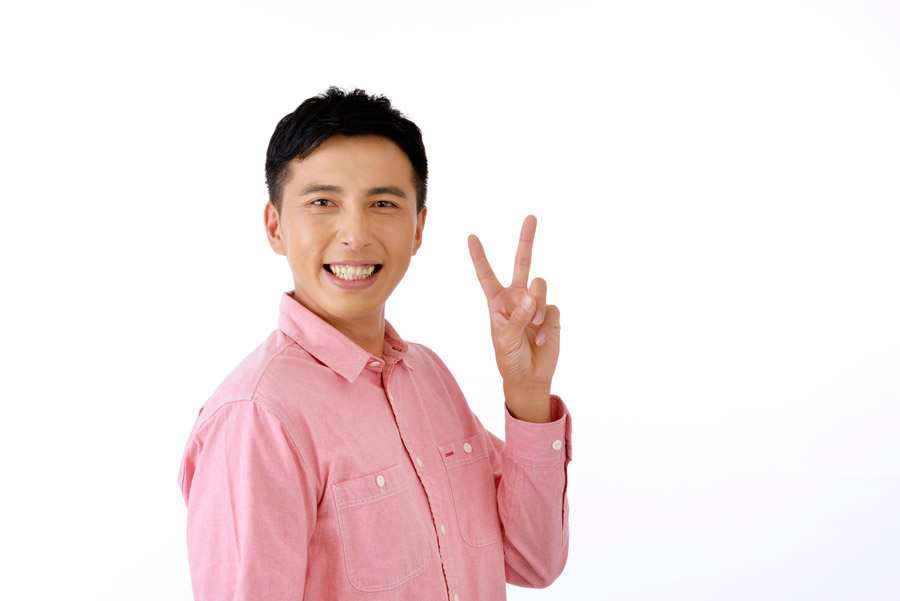face: (264, 134, 428, 322)
hand: (465, 207, 563, 390)
